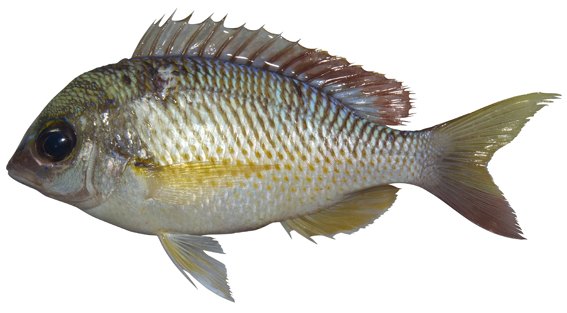fish: (6, 8, 563, 304)
